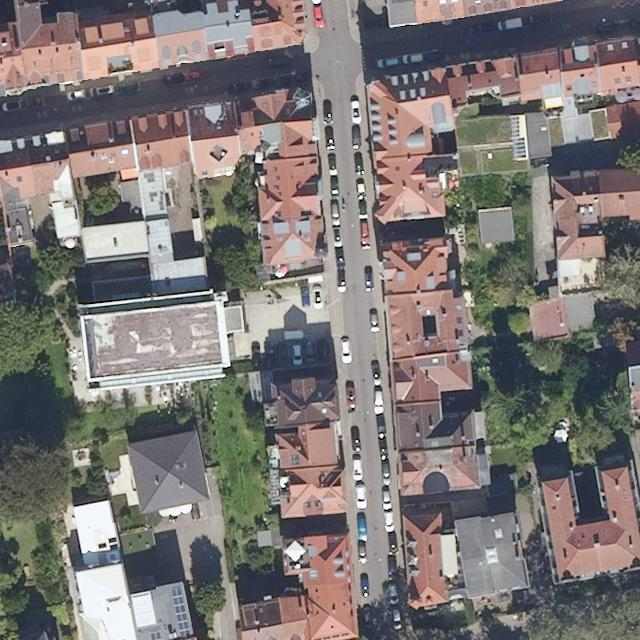PV: (170, 587, 192, 639), (149, 629, 162, 639)
